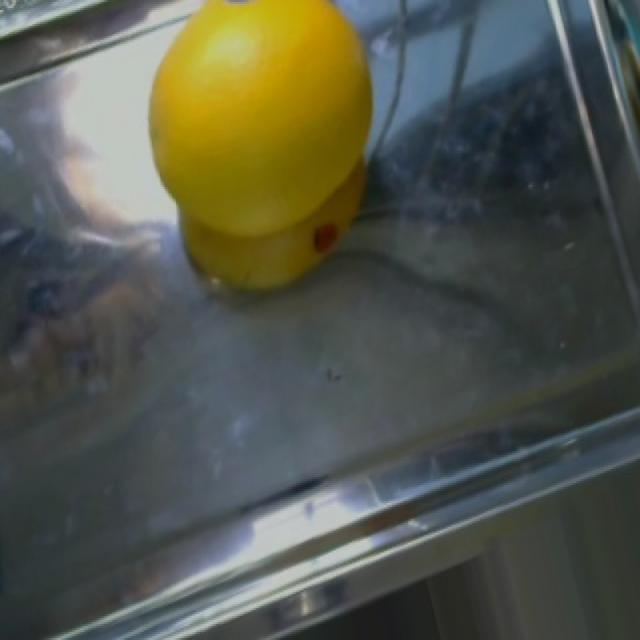Fruit: (128, 0, 397, 318)
